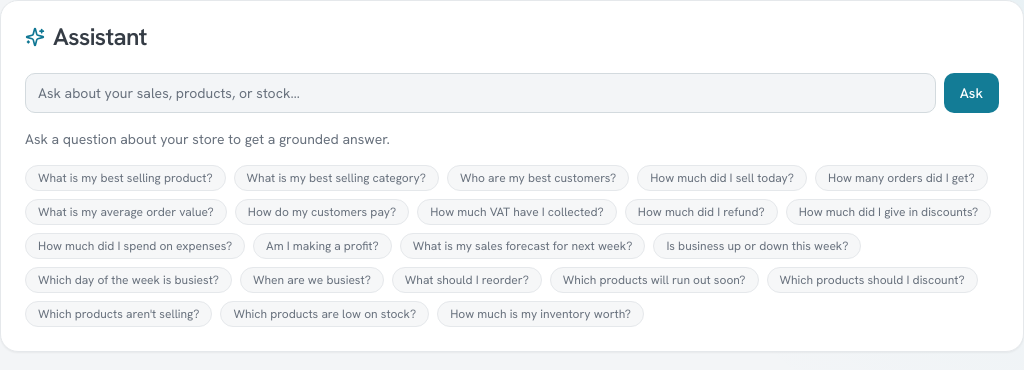
AssistantPanel (#228 in-app assistant surface) › asks a suggestion chip when clicked without typing
The width and height of the screenshot is (1024, 370).
# Suggestion chips are available up front so a merchant can ask in one tap.
Click the button "How much did I sell today?".
click(722, 178)  # box [637, 165, 807, 191]
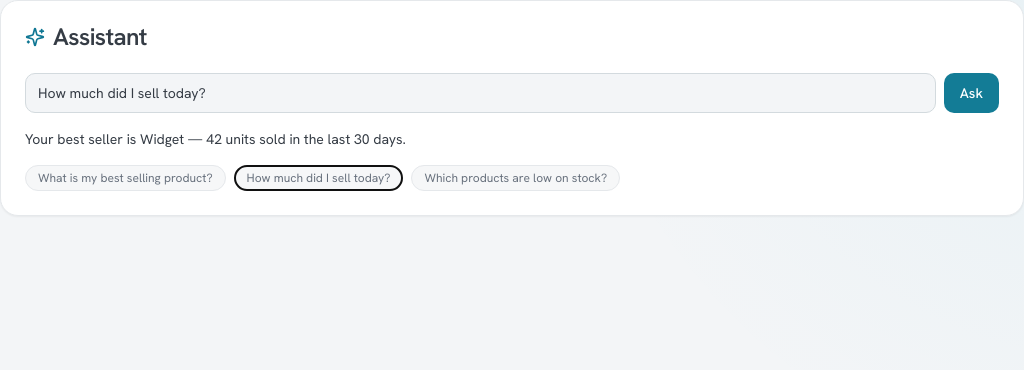
expect the button "How much did I sell today?" is shown: met, box [234, 165, 404, 191]
expect the text "Your best seller is Widget — 42 units sold in the last 30 days." is shown: met, box [25, 130, 406, 148]
